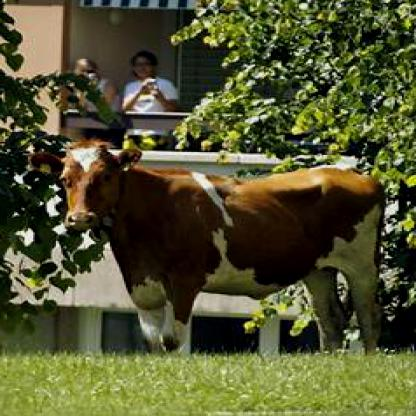cow: (28, 138, 385, 351)
